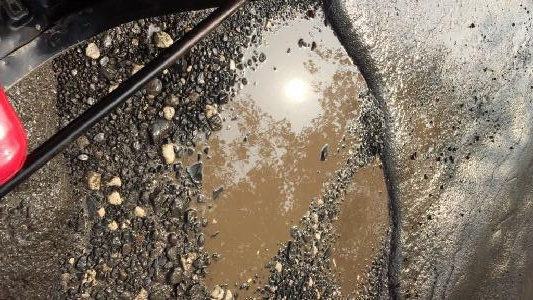pothole: (169, 0, 405, 300)
